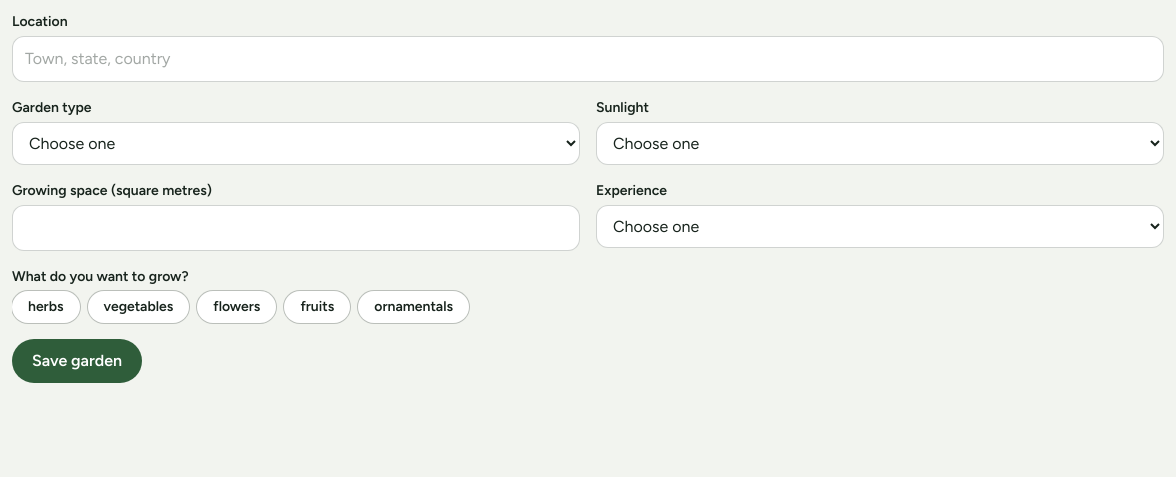
Test case: GardenForm › shows errors and does not save an empty form
Click the button "Save garden": (77, 361) [12,339,142,383]
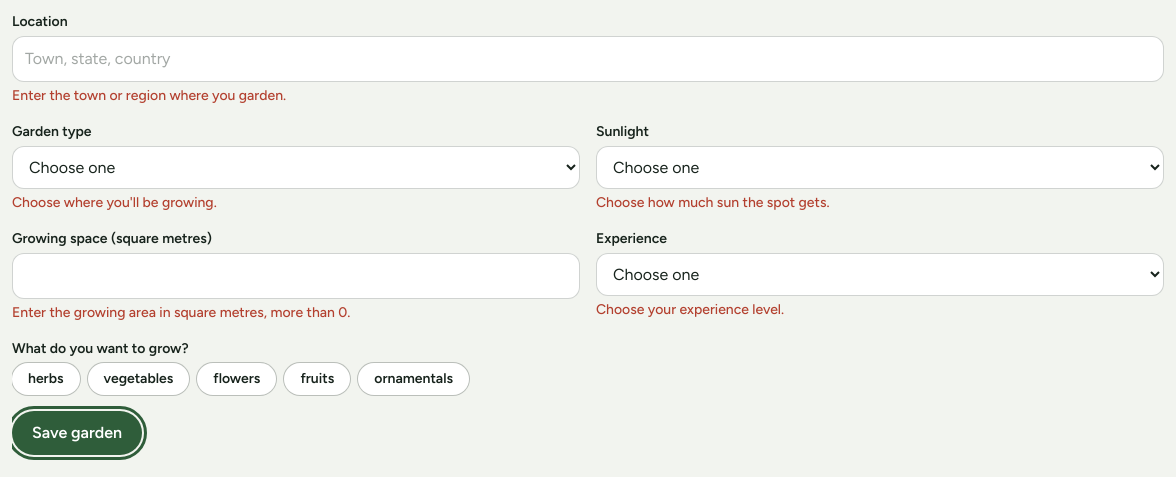
Expected: the text "Enter the town or region where you garden." is shown, [12,87,286,104]
Expected: the text "Choose where you'll be growing." is shown, [12,194,217,211]
Expected: the text "Enter the growing area in square metres, more than 0." is shown, [12,304,350,321]
